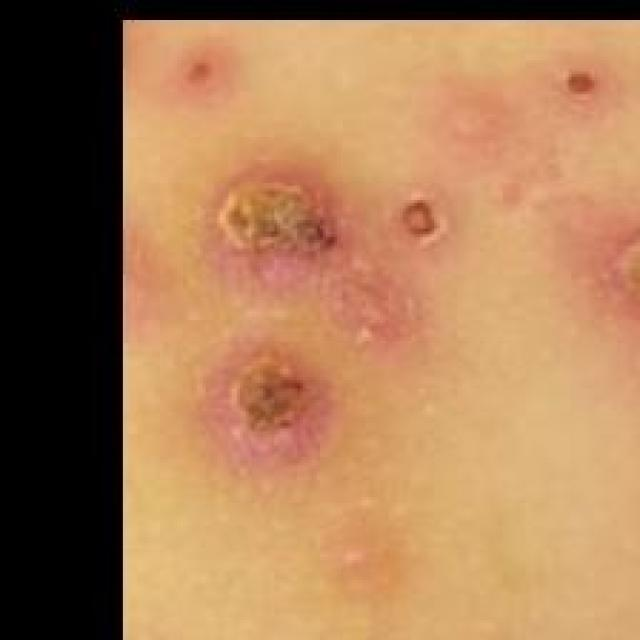others: (148, 105, 637, 640)
